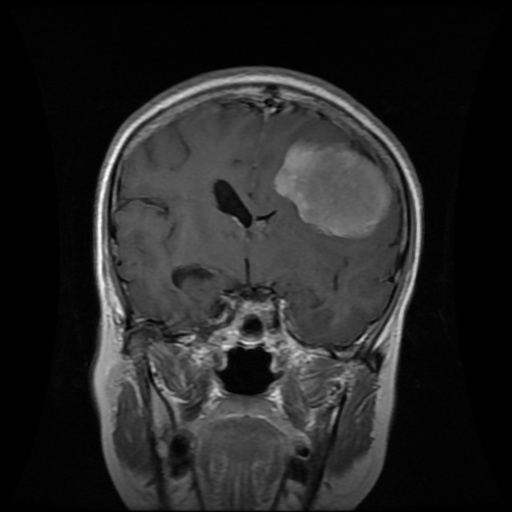meningioma: (273, 140, 391, 239)
